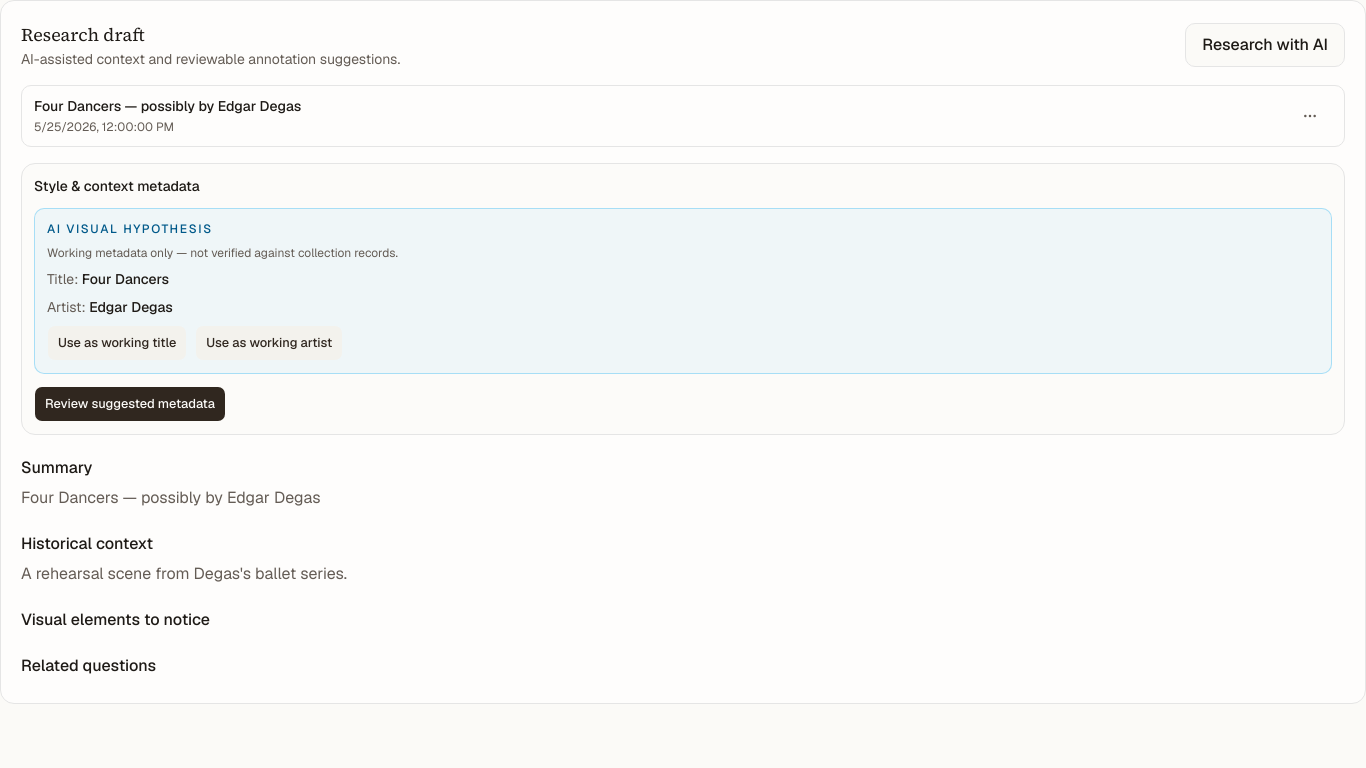
Scenario: ResearchPanel metadata apply › updates selected artwork fields after review confirm
The width and height of the screenshot is (1366, 768).
Click the button "Review suggested metadata" at (130, 404), box [34,386,226,422]
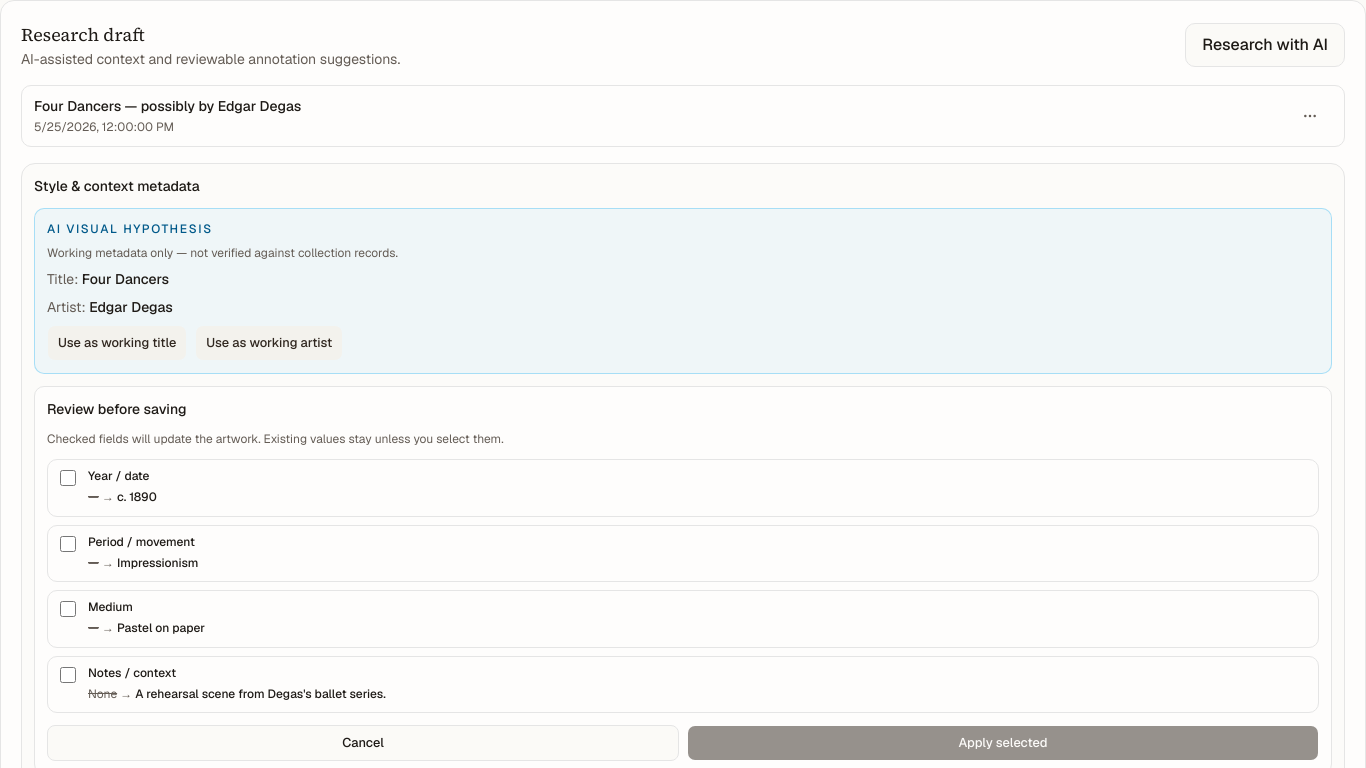
expect the text "Review before saving" is shown: met, box [47,400,187,418]
Click the checkbox labelled "Year / date — → c. 1890" at (68, 478), box [60,470,76,486]
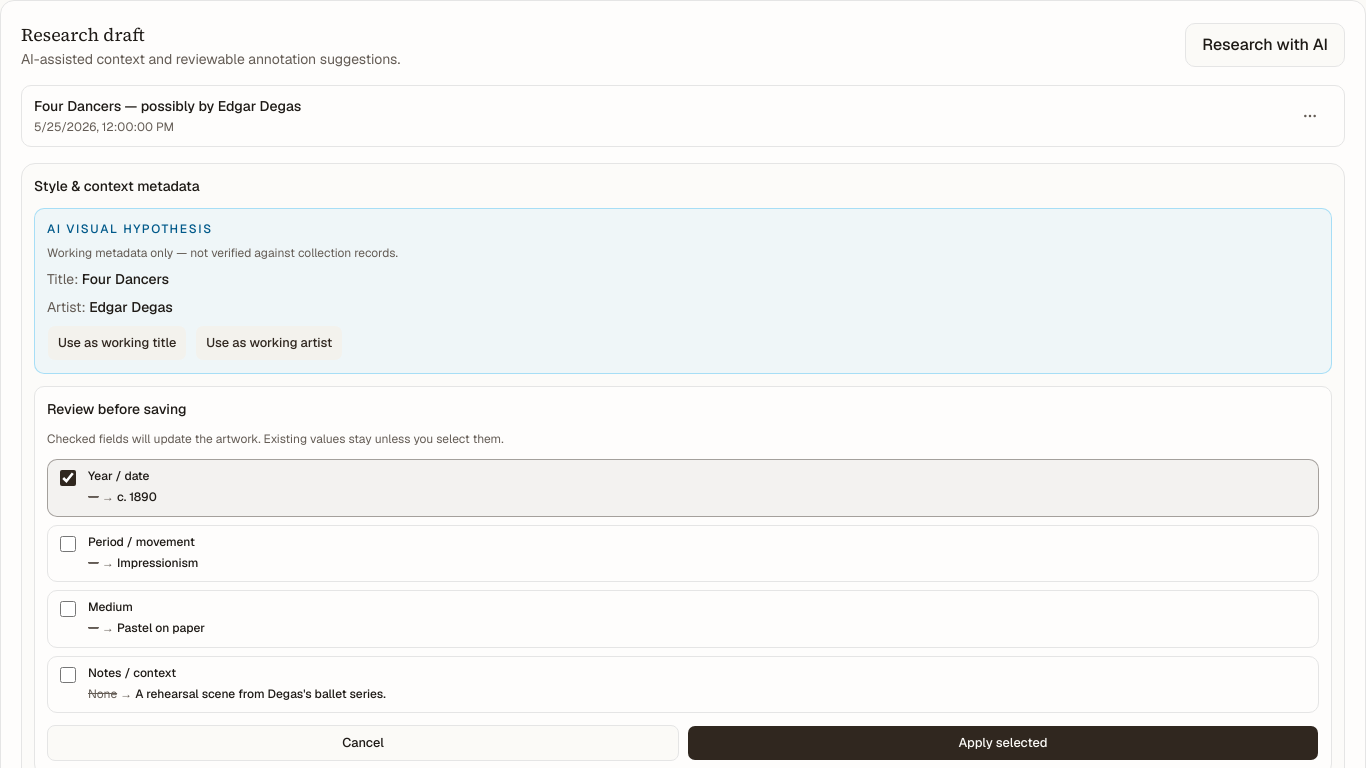
Click the checkbox labelled "Period / movement — → Impressionism" at (68, 544), box [60,536,76,552]
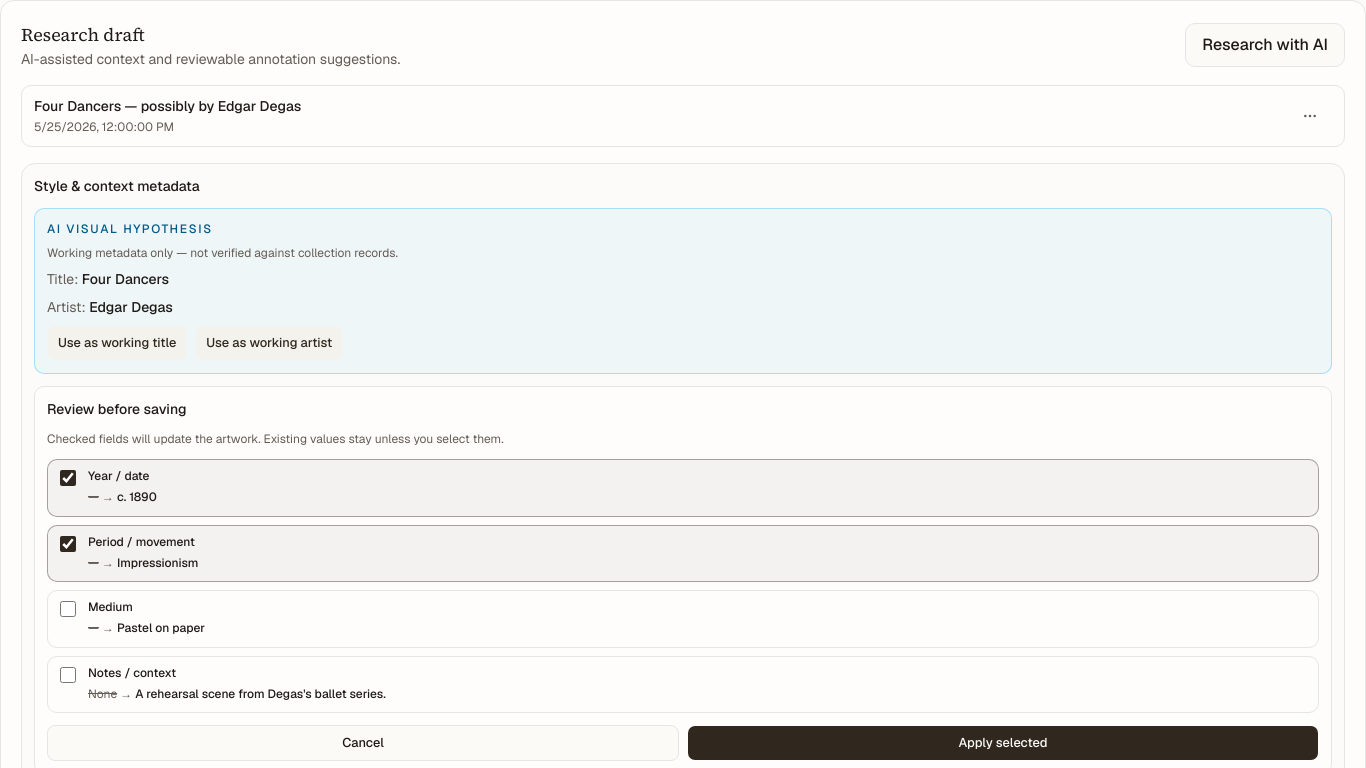
Click the checkbox labelled "Medium — → Pastel on paper" at (68, 609), box [60,601,76,617]
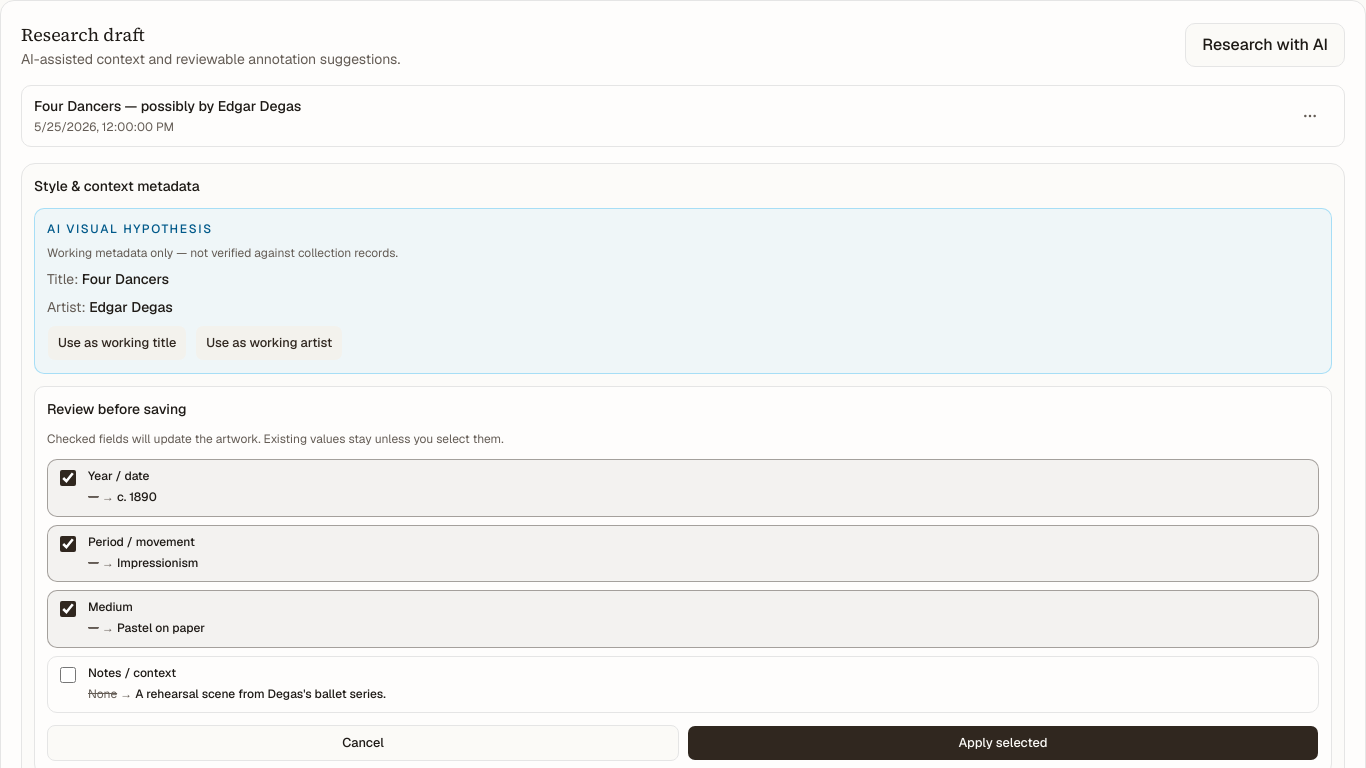
Click the button "Apply selected" at (1003, 743), box [687,725,1319,761]
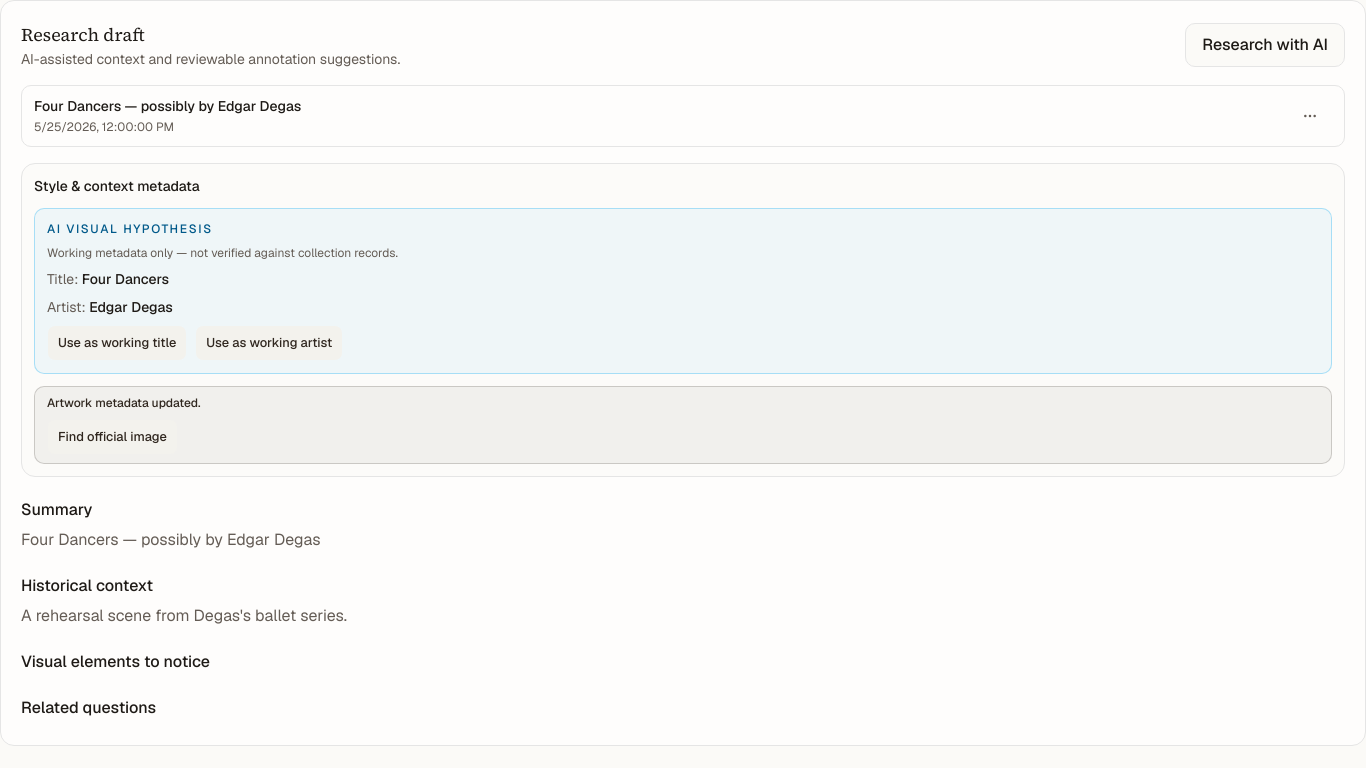
expect the text "Artwork metadata updated." is shown: met, box [47,395,201,411]
expect the button "Find official image" is shown: met, box [47,419,178,455]
